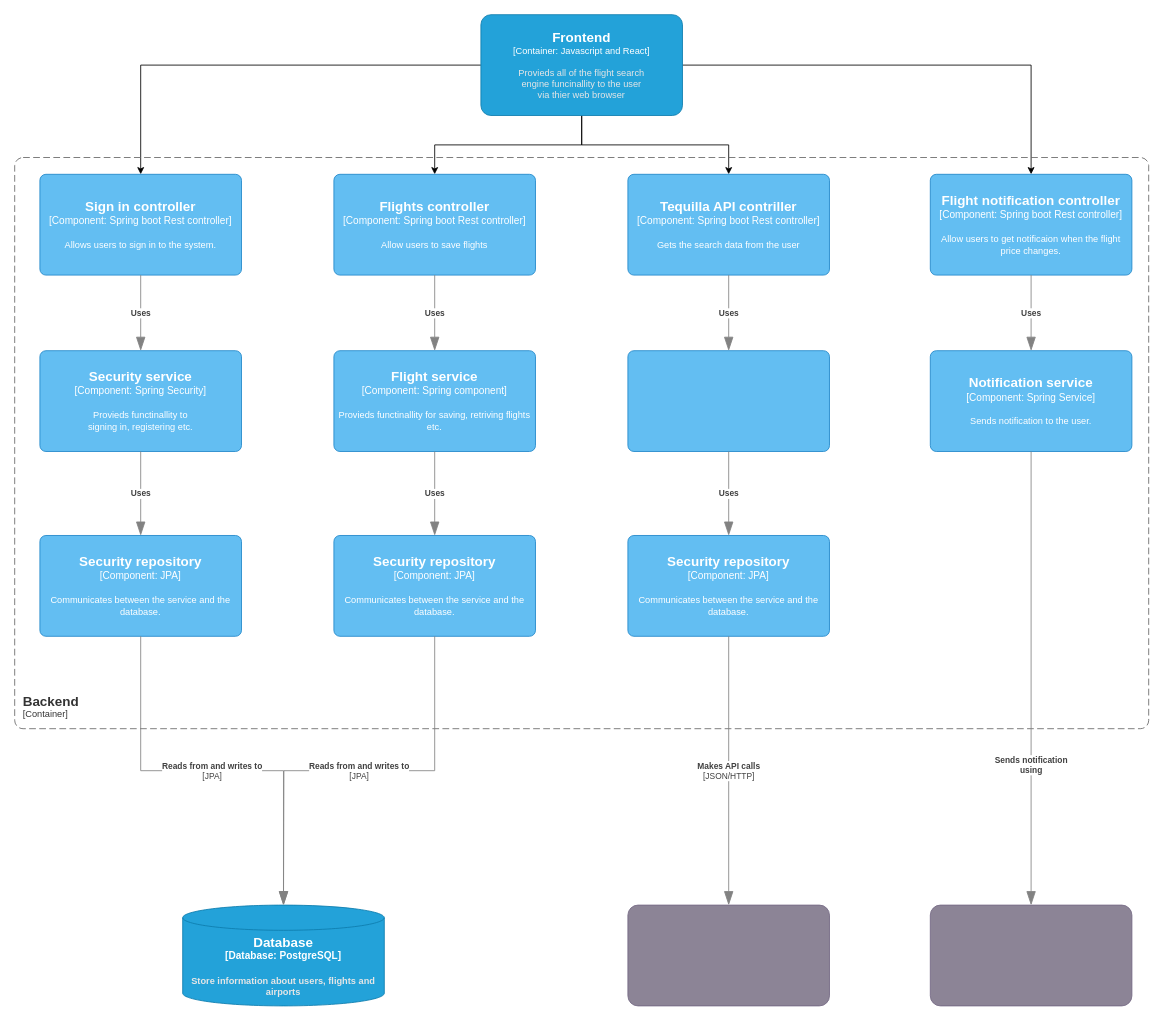
The diagram is 1163 pixels wide and 1021 high, and some of its shapes have lost their labels. The centre of each missing label's shape, as x and y in pixels:
"Flight info service [Component: Spring component] Make a request to the API" belongs at [728,401].
"Notification system [Software System] Notifeis the user about price changes" belongs at [1030,955].
"Tequila API [Software System] External api that retrives flights data." belongs at [728,955].
